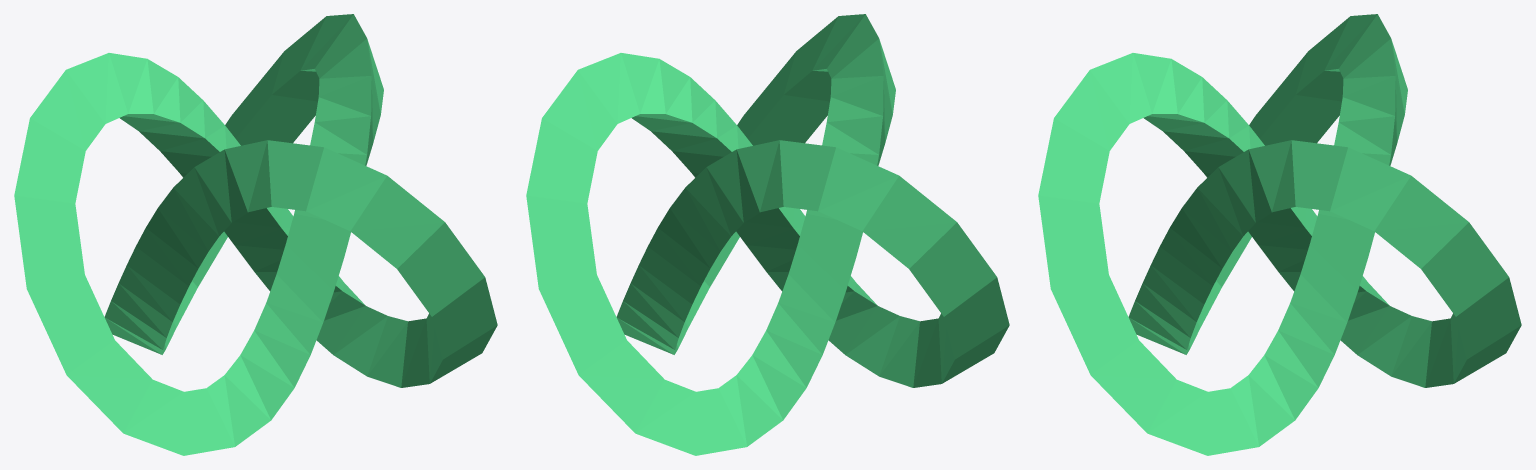
Rendered from TorusKnot.DAE.
The picture shows the model from 3 angles, left to right: view 1: azimuth 30°, elevation 25°; view 2: azimuth 150°, elevation 25°; view 3: azimuth 270°, elevation 25°; orthographic projection.
Parts seen in each view (by area): view 1: Torus_Knot01; view 2: Torus_Knot01; view 3: Torus_Knot01.
Part boxes in pixels (bbox=[...]): Torus_Knot01: bbox=[14, 14, 497, 455]; Torus_Knot01: bbox=[526, 14, 1009, 455]; Torus_Knot01: bbox=[1038, 14, 1521, 455].
Bounding box in the file's own units: 83.56 × 87.17 × 61.76.
